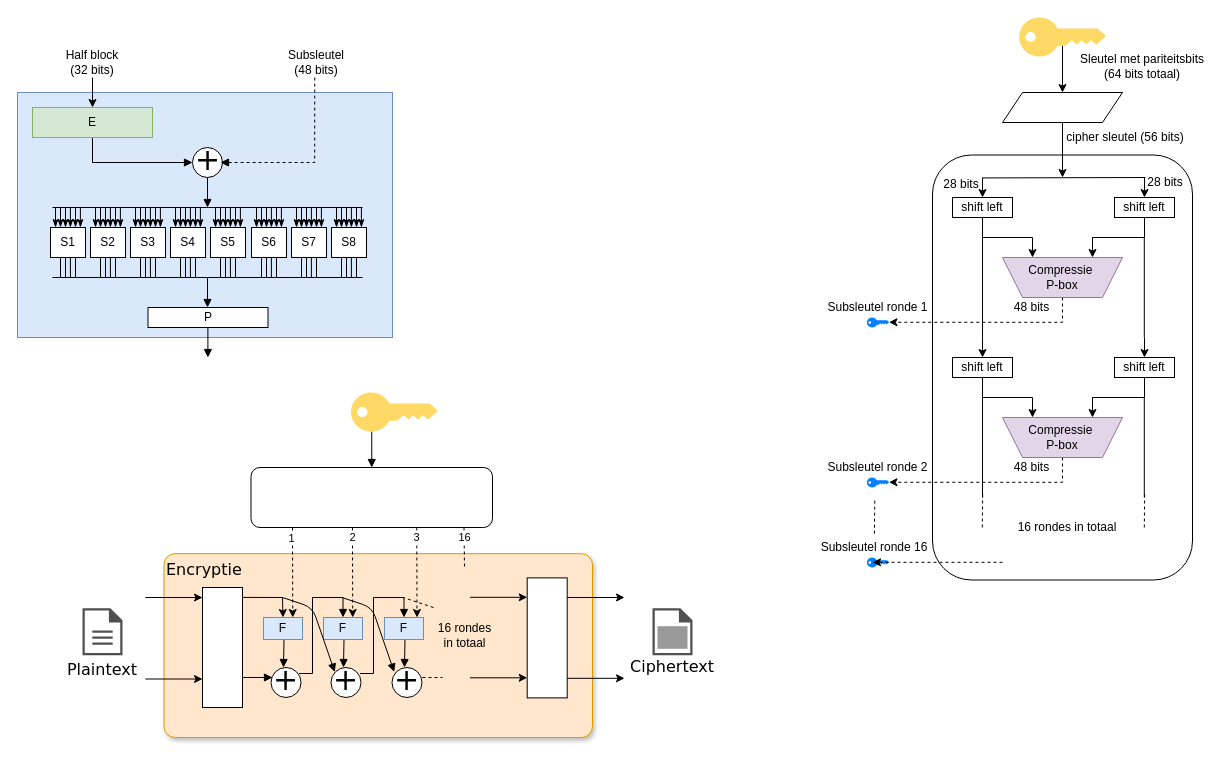
The diagram is 1230 pixels wide and 762 high, and some of its shapes have lost their labels. The centre of each missing label's shape, as x and y in pixels:
"FP" belongs at (546,637).
"IP" belongs at (222,647).
"Pariteitsbits weggelaten" belongs at (1062,107).
"Subkey generatie (16 stuks)" belongs at (371,497).
